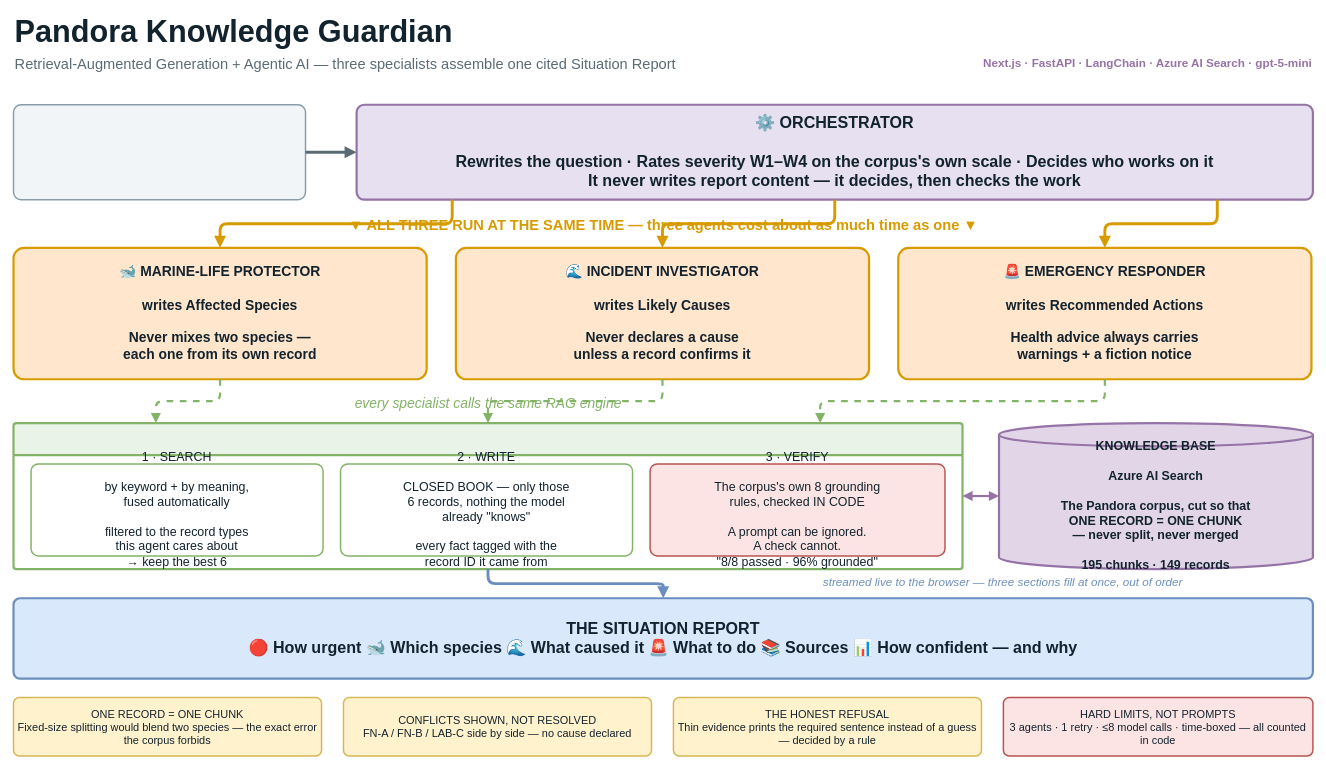
This 1326x769 diagram has some shape labels left out. Here are the shapes that lost their labels. From the top down, the box of each, then its label:
(12, 104, 306, 200): Guardian describes what they see "the water near Awa Reef turned turquoise"
(12, 422, 963, 570): RAG ENGINE
